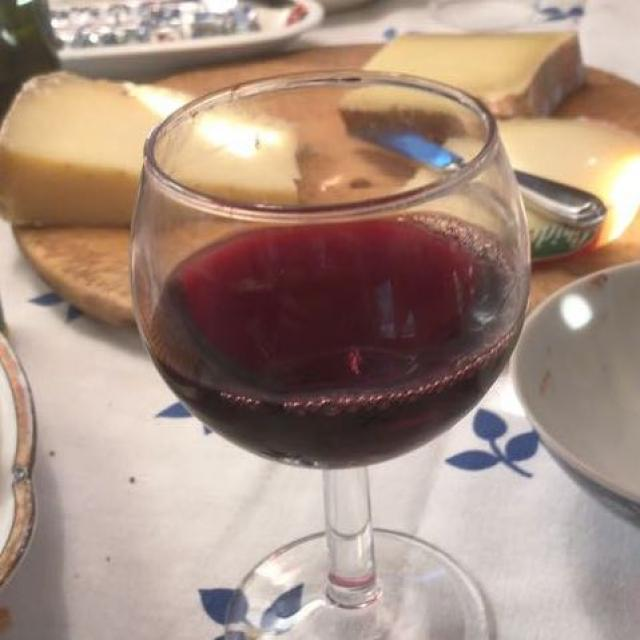wine-red: (143, 202, 542, 474)
